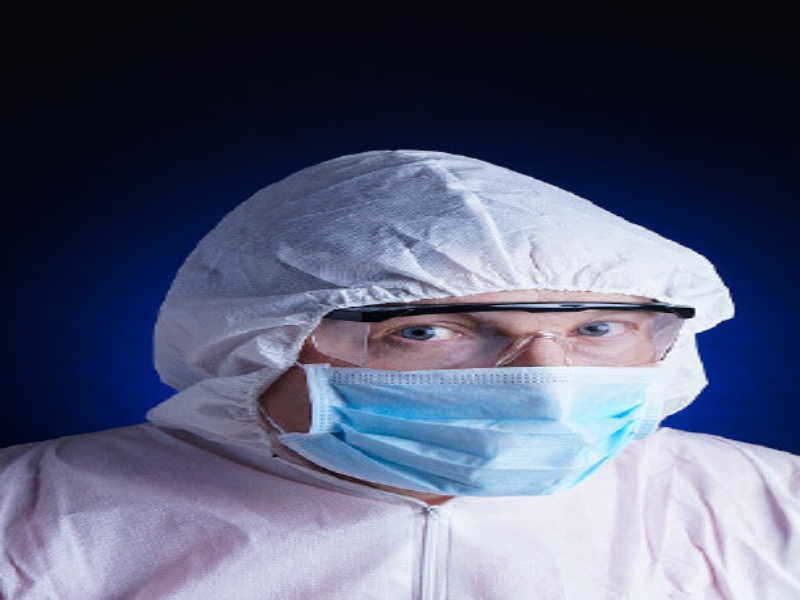mask: (175, 130, 727, 505)
